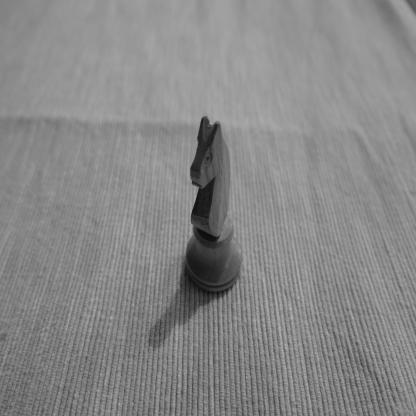white-knight: (185, 114, 242, 294)
